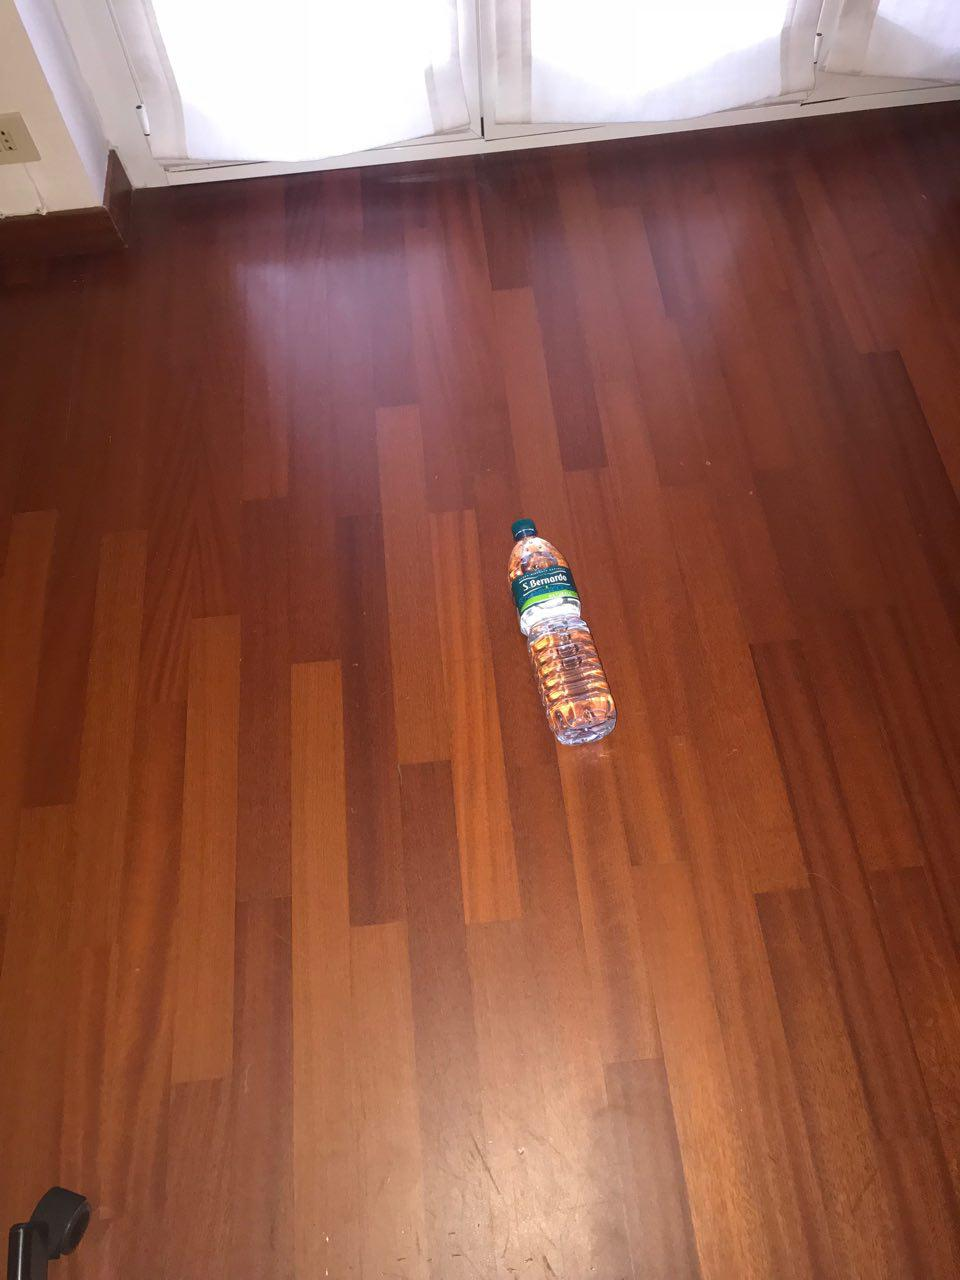san_bernardo: (506, 518, 617, 745)
